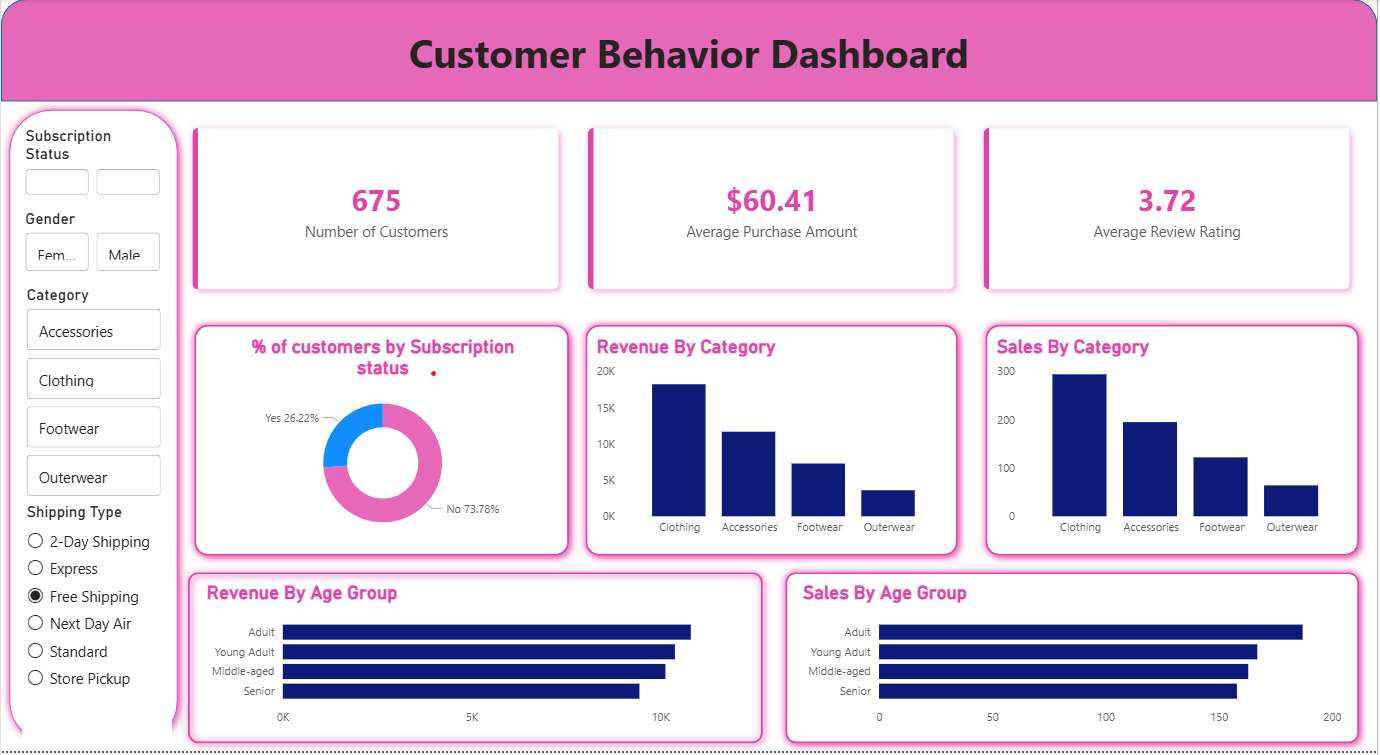

The page's visual inventory and layout, read from the dashboard file:
{"tool":"powerbi","page":{"name":"Page 1","canvas":[1500,820],"ordinal":0},"visuals":[{"type":"cardVisual","fields":{"Data":["public customer.Number of Customers","public customer.Average Purchase Amount","public customer.Average Review Rating"]},"box":[179.9,111.7,1320.4,234.4],"z":0},{"type":"shape","box":[0,0,1500.3,111.7],"z":1000},{"type":"textbox","box":[0,24.5,1500.3,87.2],"z":2000},{"type":"shape","box":[201.7,346.1,426.5,269.8],"z":3000},{"type":"donutChart","title":"% of customers by Subscription status","fields":{"Category":["public customer.subscription_status"],"Y":["Count(public customer.customer_id)"]},"box":[219.4,366.6,393.8,227.6],"z":4000},{"type":"shape","box":[628.2,346.1,423.8,269.8],"z":5000},{"type":"shape","box":[1064.2,346.1,425.1,269.8],"z":6000},{"type":"clusteredColumnChart","title":"Revenue By Category","fields":{"Y":["Sum(public customer.purchase_amount)"],"Category":["public customer.category"]},"box":[644.5,366.6,389.7,227.6],"z":7000},{"type":"clusteredColumnChart","title":"Sales By Category","fields":{"Category":["public customer.category"],"Y":["CountNonNull(public customer.customer_id)"]},"box":[1080.6,366.6,393.8,227.6],"z":8000},{"type":"shape","box":[0,111.7,201.7,708.6],"z":9000},{"type":"advancedSlicerVisual","title":"Subscription Status","fields":{"Values":["public customer.subscription_status"]},"box":[21.8,139,156.7,80.4],"z":9001},{"type":"advancedSlicerVisual","title":"Gender","fields":{"Values":["public customer.gender"]},"box":[21.8,228.9,156.7,73.6],"z":9002},{"type":"advancedSlicerVisual","title":"Category","fields":{"Values":["public customer.category"]},"box":[23.2,312,156.7,237.1],"z":9003},{"type":"listSlicer","title":"Shipping Type","fields":{"Values":["public customer.shipping_type"]},"box":[23.2,549.1,163.5,271.2],"z":9004},{"type":"clusteredBarChart","title":"Revenue By Age Group","fields":{"Y":["Sum(public customer.purchase_amount)"],"Category":["public customer.age_group"]},"box":[219.4,635,596.8,166.2],"z":9005},{"type":"shape","box":[194.9,615.9,644.5,204.4],"z":9006},{"type":"shape","box":[846.2,615.9,643.2,204.4],"z":9007},{"type":"clusteredBarChart","title":"Sales By Age Group","fields":{"Y":["CountNonNull(public customer.customer_id)"],"Category":["public customer.age_group"]},"box":[869.4,635,596.8,166.2],"z":9008}]}

Visuals, with their boxes in screenshot pixels (x1, y1, x2, y2), scaled from the page's 1500x820 canvas onto the 1380x755 screenshot:
cardVisual - public customer.Number of Customers x public customer.Average Purchase Amount: (166,103,1379,319)
shape: (0,0,1379,103)
textbox: (0,23,1379,103)
shape: (186,319,578,567)
"% of customers by Subscription status" donutChart: (202,338,564,547)
shape: (578,319,968,567)
shape: (979,319,1370,567)
"Revenue By Category" clusteredColumnChart: (593,338,951,547)
"Sales By Category" clusteredColumnChart: (994,338,1356,547)
shape: (0,103,186,754)
"Subscription Status" advancedSlicerVisual: (20,128,164,202)
"Gender" advancedSlicerVisual: (20,211,164,279)
"Category" advancedSlicerVisual: (21,287,166,506)
"Shipping Type" listSlicer: (21,506,172,754)
"Revenue By Age Group" clusteredBarChart: (202,585,751,738)
shape: (179,567,772,754)
shape: (779,567,1370,754)
"Sales By Age Group" clusteredBarChart: (800,585,1349,738)
